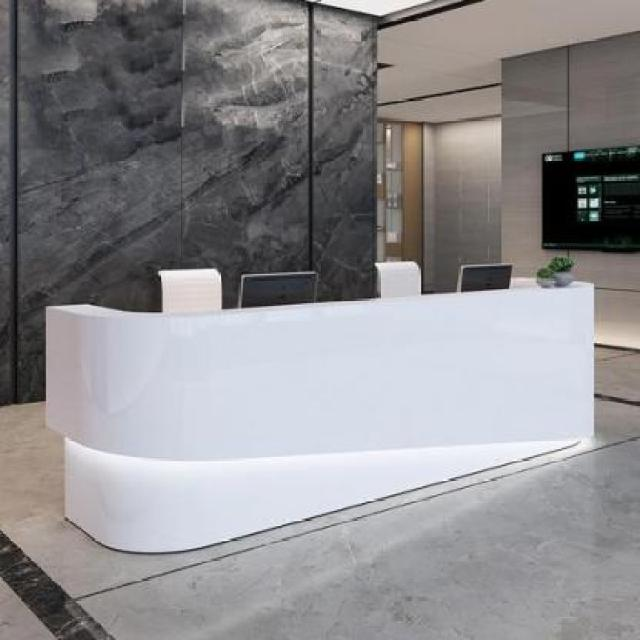frontdesk: (43, 254, 605, 563)
